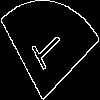T: (25, 25, 65, 78)
